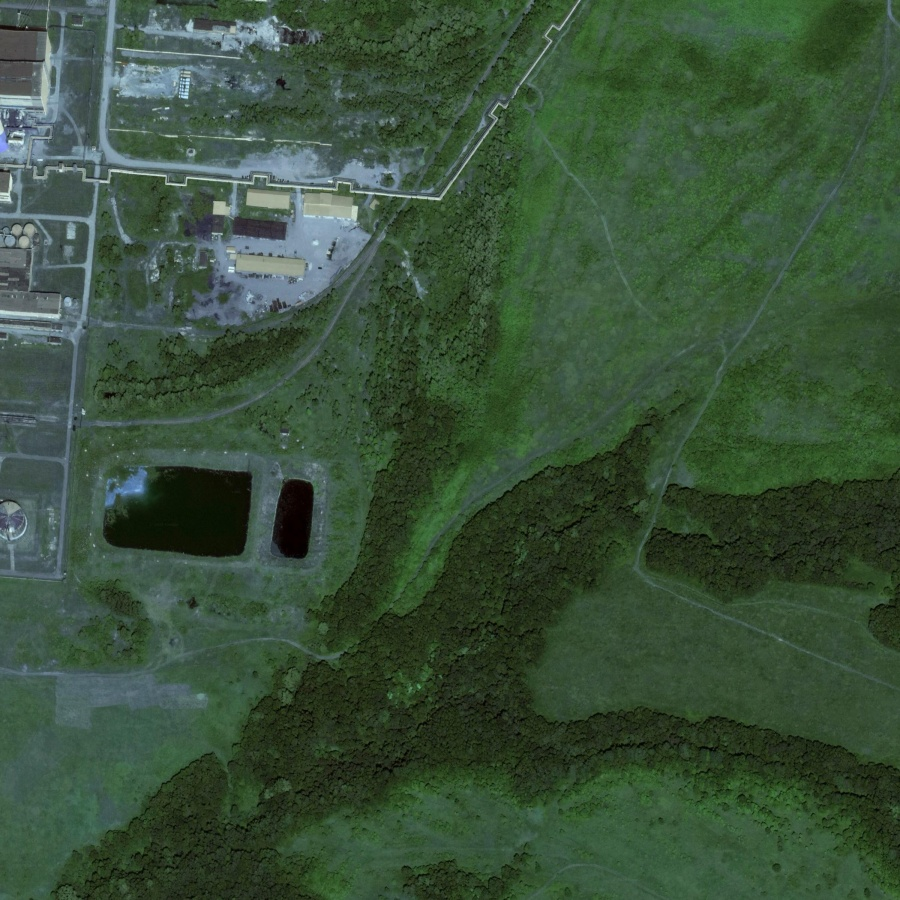PowerPlant: (93, 452, 327, 579)
